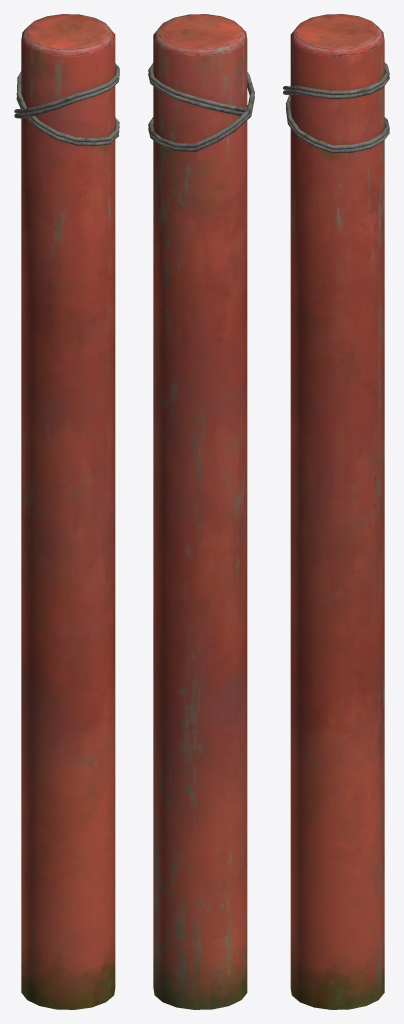
The model's file is Pillar2.fbx.
The picture shows the model from 3 angles, left to right: view 1: azimuth 30°, elevation 25°; view 2: azimuth 150°, elevation 25°; view 3: azimuth 330°, elevation 25°; orthographic projection.
Parts seen in each view (by area): view 1: SM_a_001_Pillar_02a; view 2: SM_a_001_Pillar_02a; view 3: SM_a_001_Pillar_02a.
Part boxes in pixels (<box>): SM_a_001_Pillar_02a: <box>14,14,119,1009</box>; SM_a_001_Pillar_02a: <box>148,14,254,1009</box>; SM_a_001_Pillar_02a: <box>283,14,389,1009</box>.
Size of the model in its own units: 72 by 690 by 68.22.
